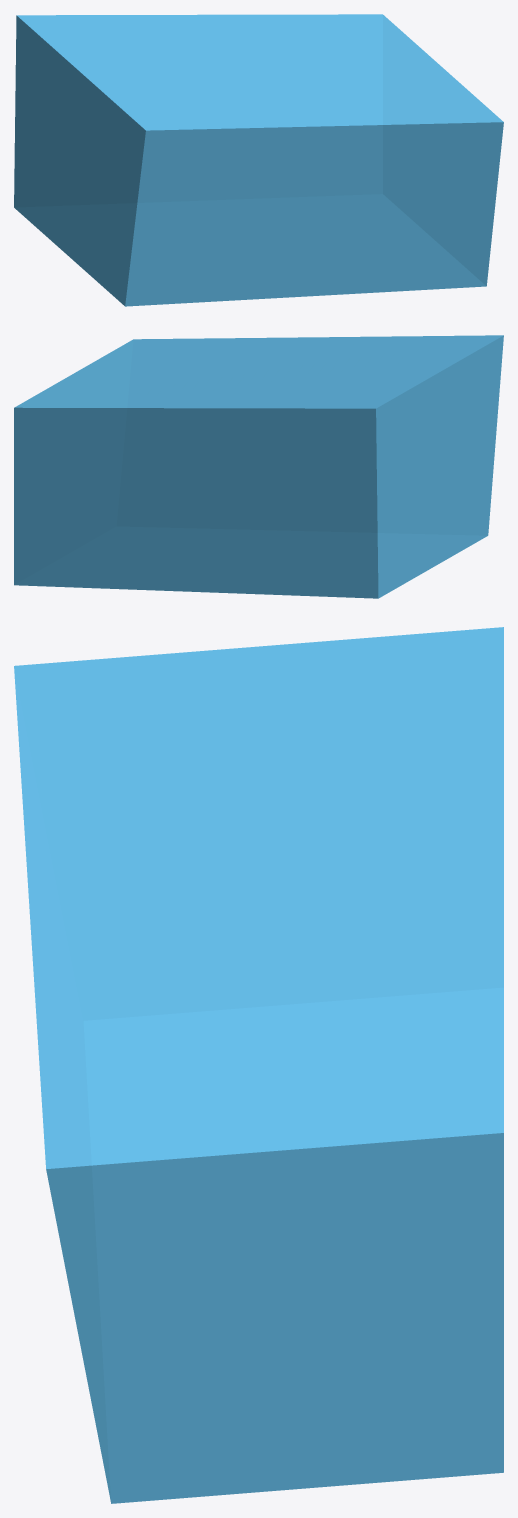
Rendered from Event_420107950_HErechit_9.fbx.
The picture shows the model from 3 angles, top to bottom: view 1: azimuth 30°, elevation 25°; view 2: azimuth 150°, elevation 25°; view 3: azimuth 270°, elevation 25°; orthographic projection. The views are drawn at different scales.
Visible parts, largest first — view 1: Model; view 2: Model; view 3: Model.
Part boxes in pixels (<box>): Model: <box>14,14,503,306</box>; Model: <box>14,335,503,598</box>; Model: <box>14,627,503,1503</box>.
Size of the model in its own units: 0.7178 by 0.5292 by 0.4364.
